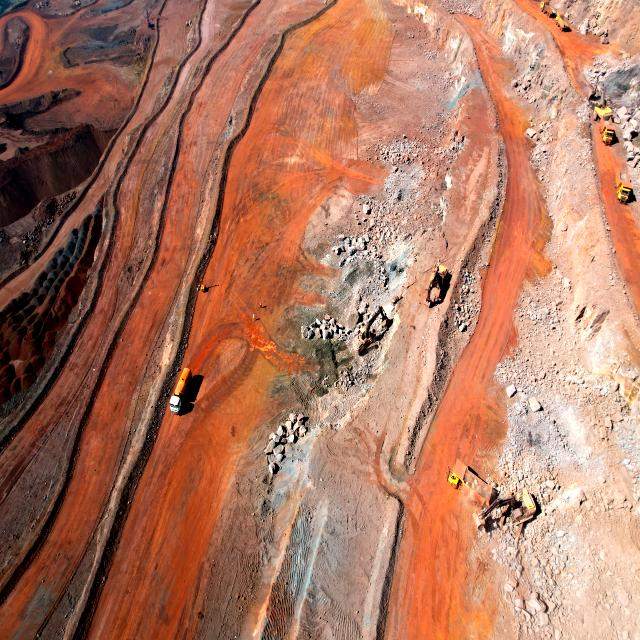Dumper truck: (450, 461, 491, 500), (616, 171, 633, 203), (602, 121, 616, 145), (555, 11, 571, 31), (541, 1, 558, 17), (145, 8, 152, 28)
Excavator: (501, 491, 537, 523), (474, 508, 520, 530), (590, 80, 614, 119), (353, 324, 378, 354), (428, 264, 444, 305), (367, 307, 390, 330)
person: (253, 314, 256, 323), (260, 301, 262, 309)
